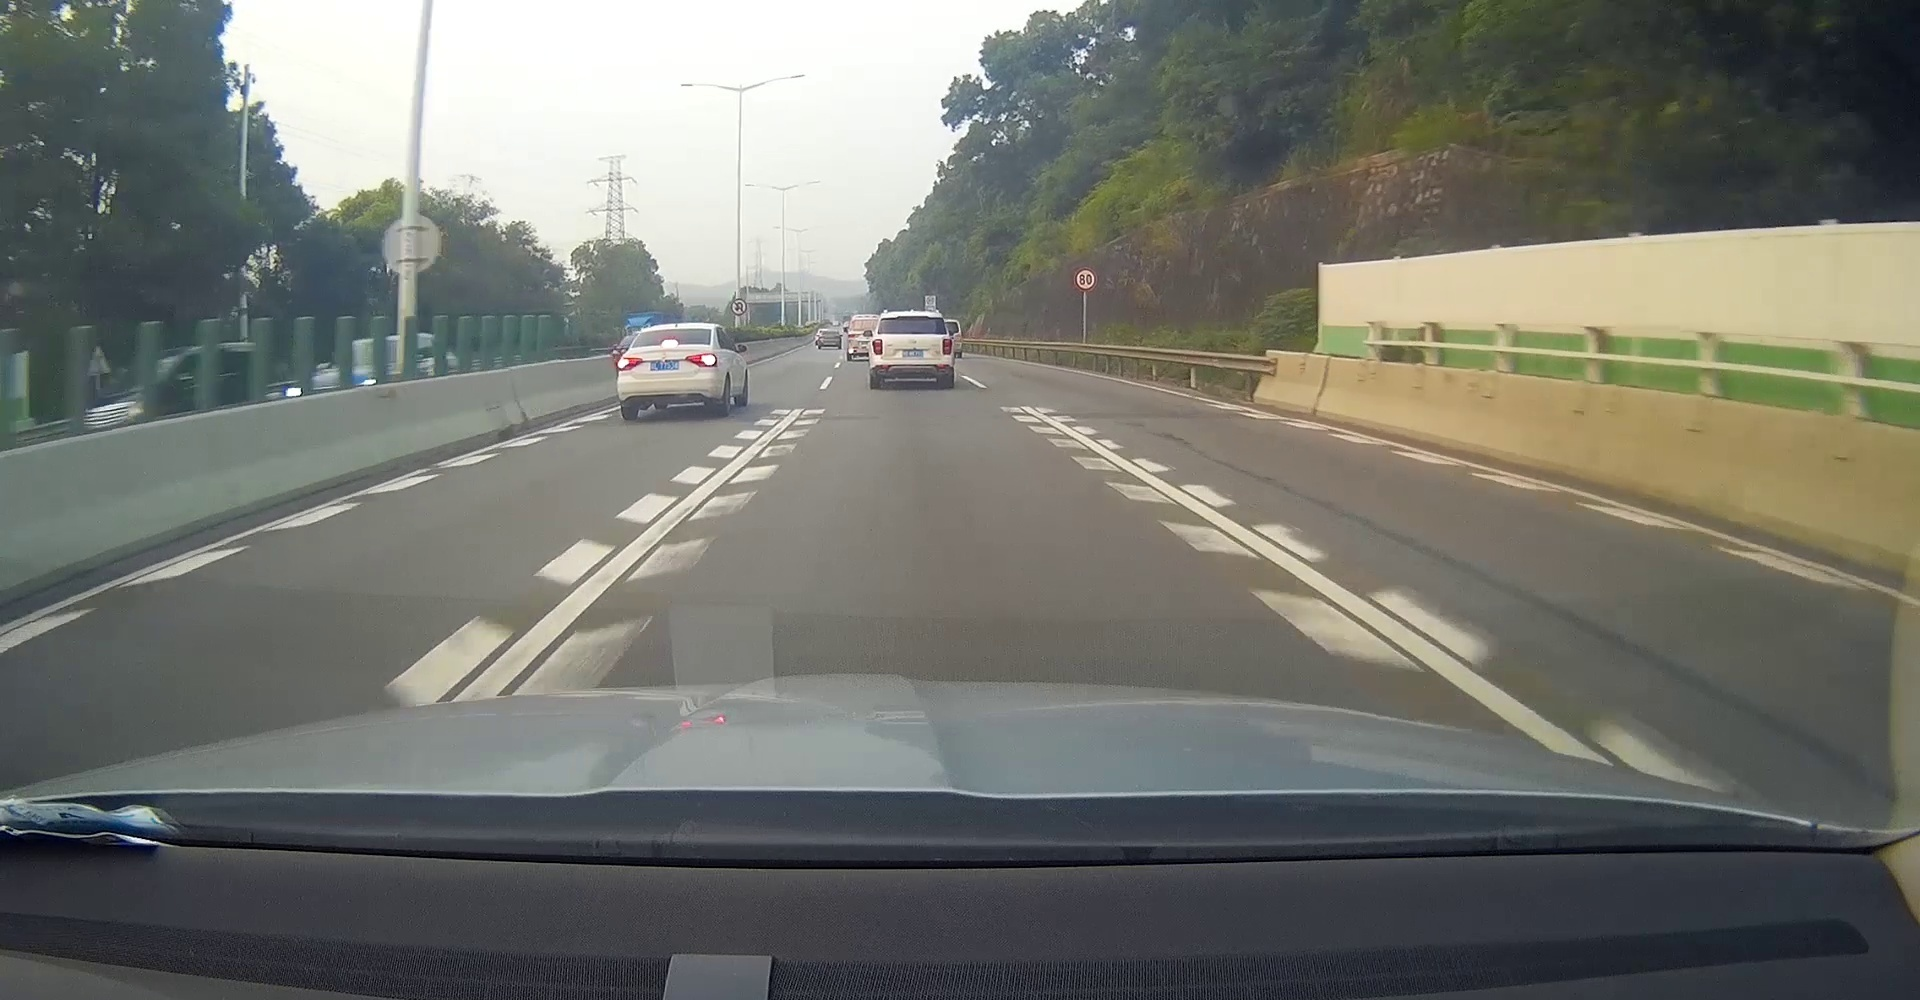L_light: (616, 357, 643, 371), (872, 339, 883, 355)
R_light: (686, 352, 717, 367), (942, 338, 952, 357)
T_light: (662, 340, 678, 345), (904, 316, 919, 319)
day-brake: (616, 322, 719, 420)
day-no: (869, 310, 954, 388)
